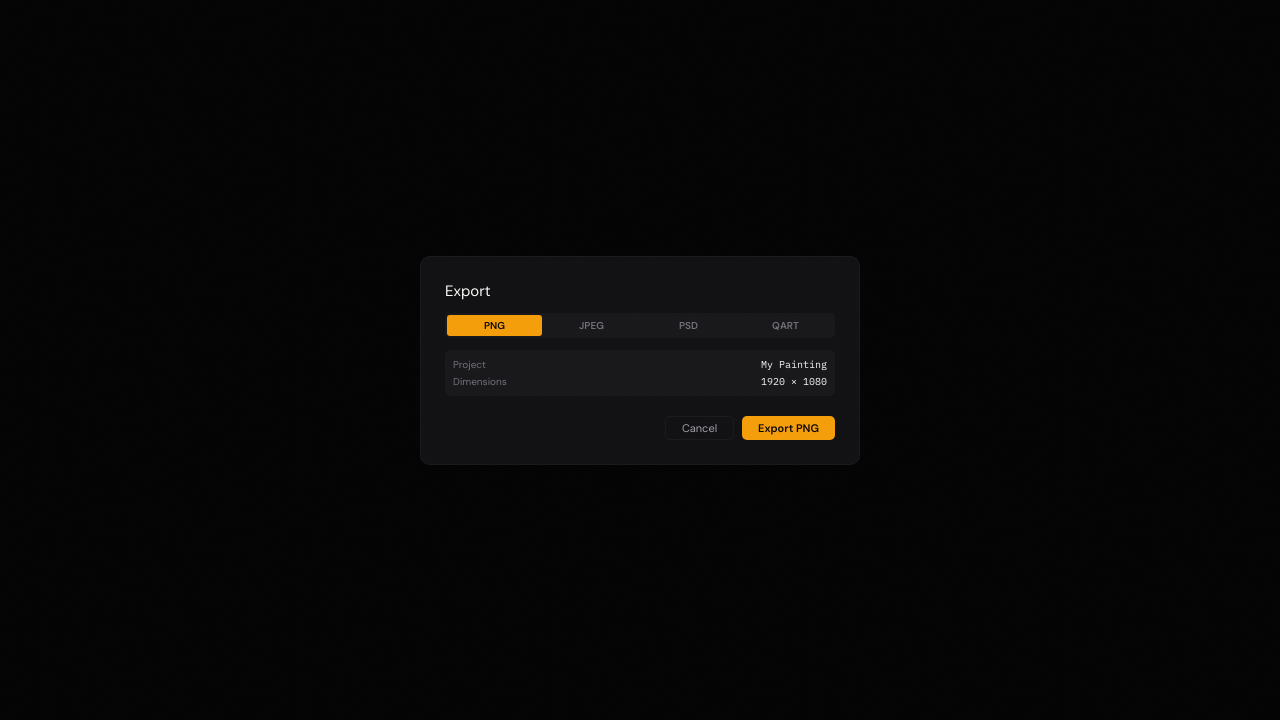
Test: ExportDialog › shows layer count for PSD format
Click the button "PSD" at [688, 325], box [641,314,736,336]
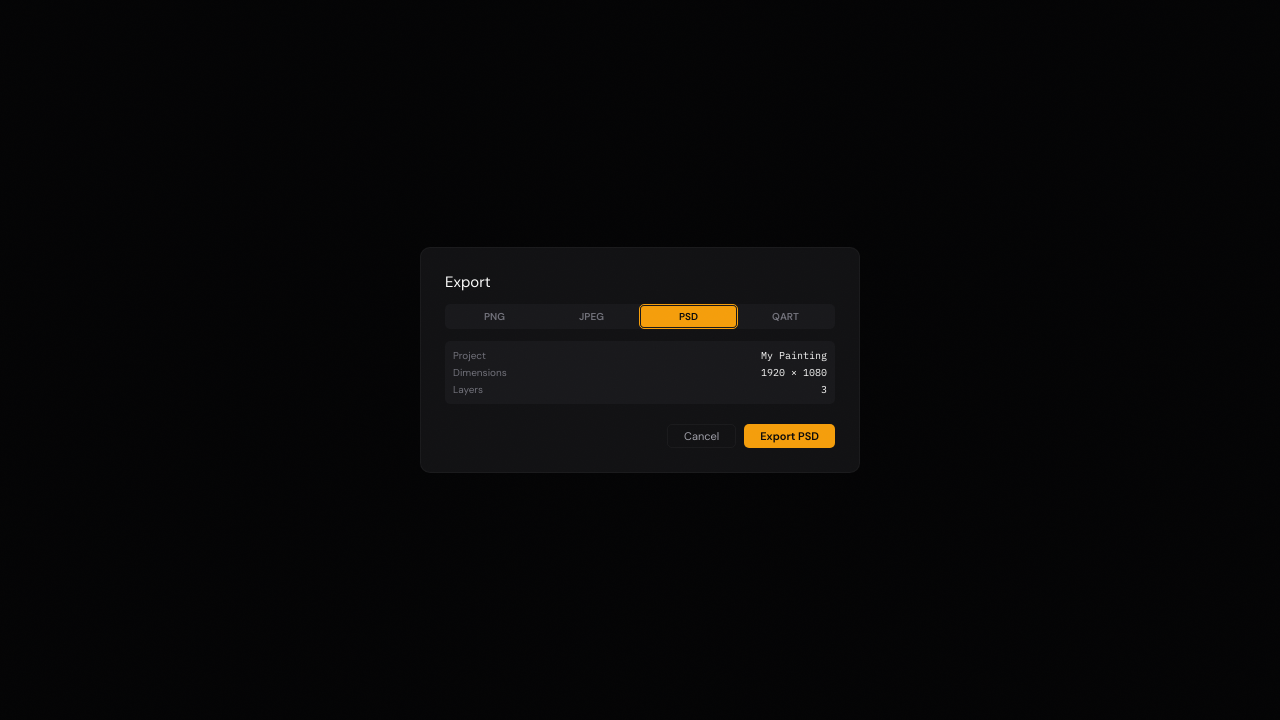
Check: the text "3" is shown, box [821,383,827,396]
